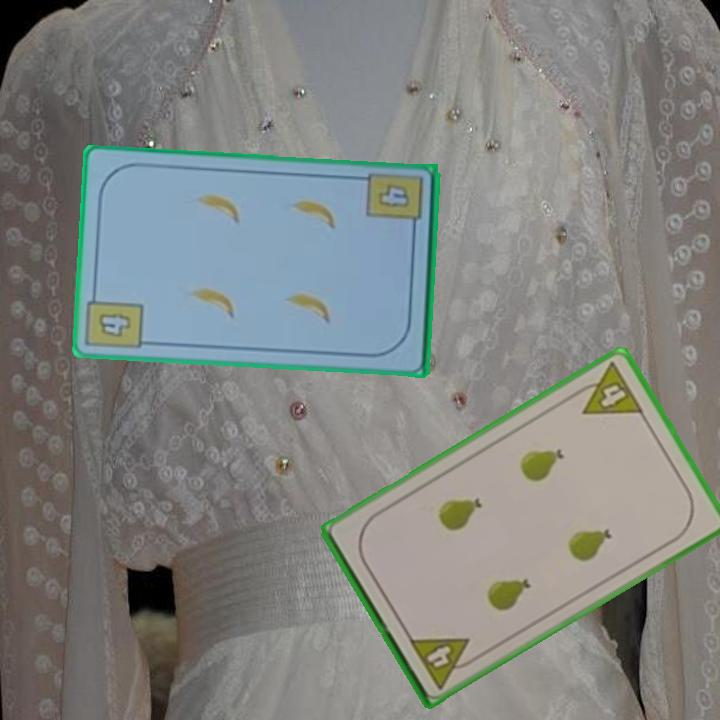4b: (85, 286, 146, 352), (374, 181, 412, 212)
4p: (568, 358, 647, 418), (405, 633, 481, 692)
